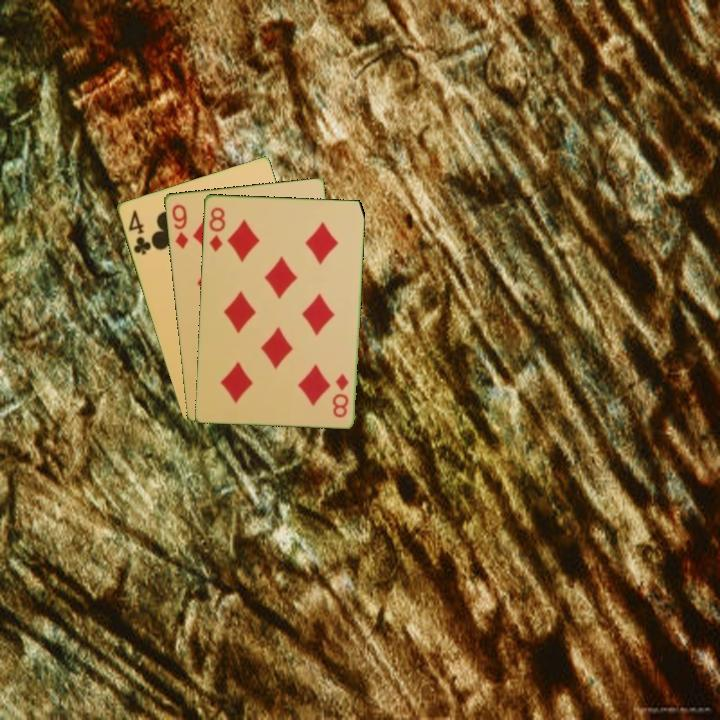4c: (125, 206, 154, 257)
8d: (205, 204, 228, 254), (330, 370, 351, 420)
9d: (168, 200, 191, 251)
